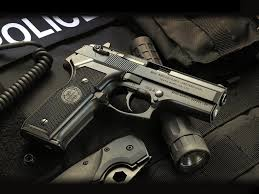gun: (17, 41, 230, 150)
